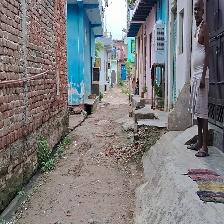Drain: (2, 95, 99, 222)
Human: (177, 0, 213, 164)
Road: (21, 85, 138, 223)
